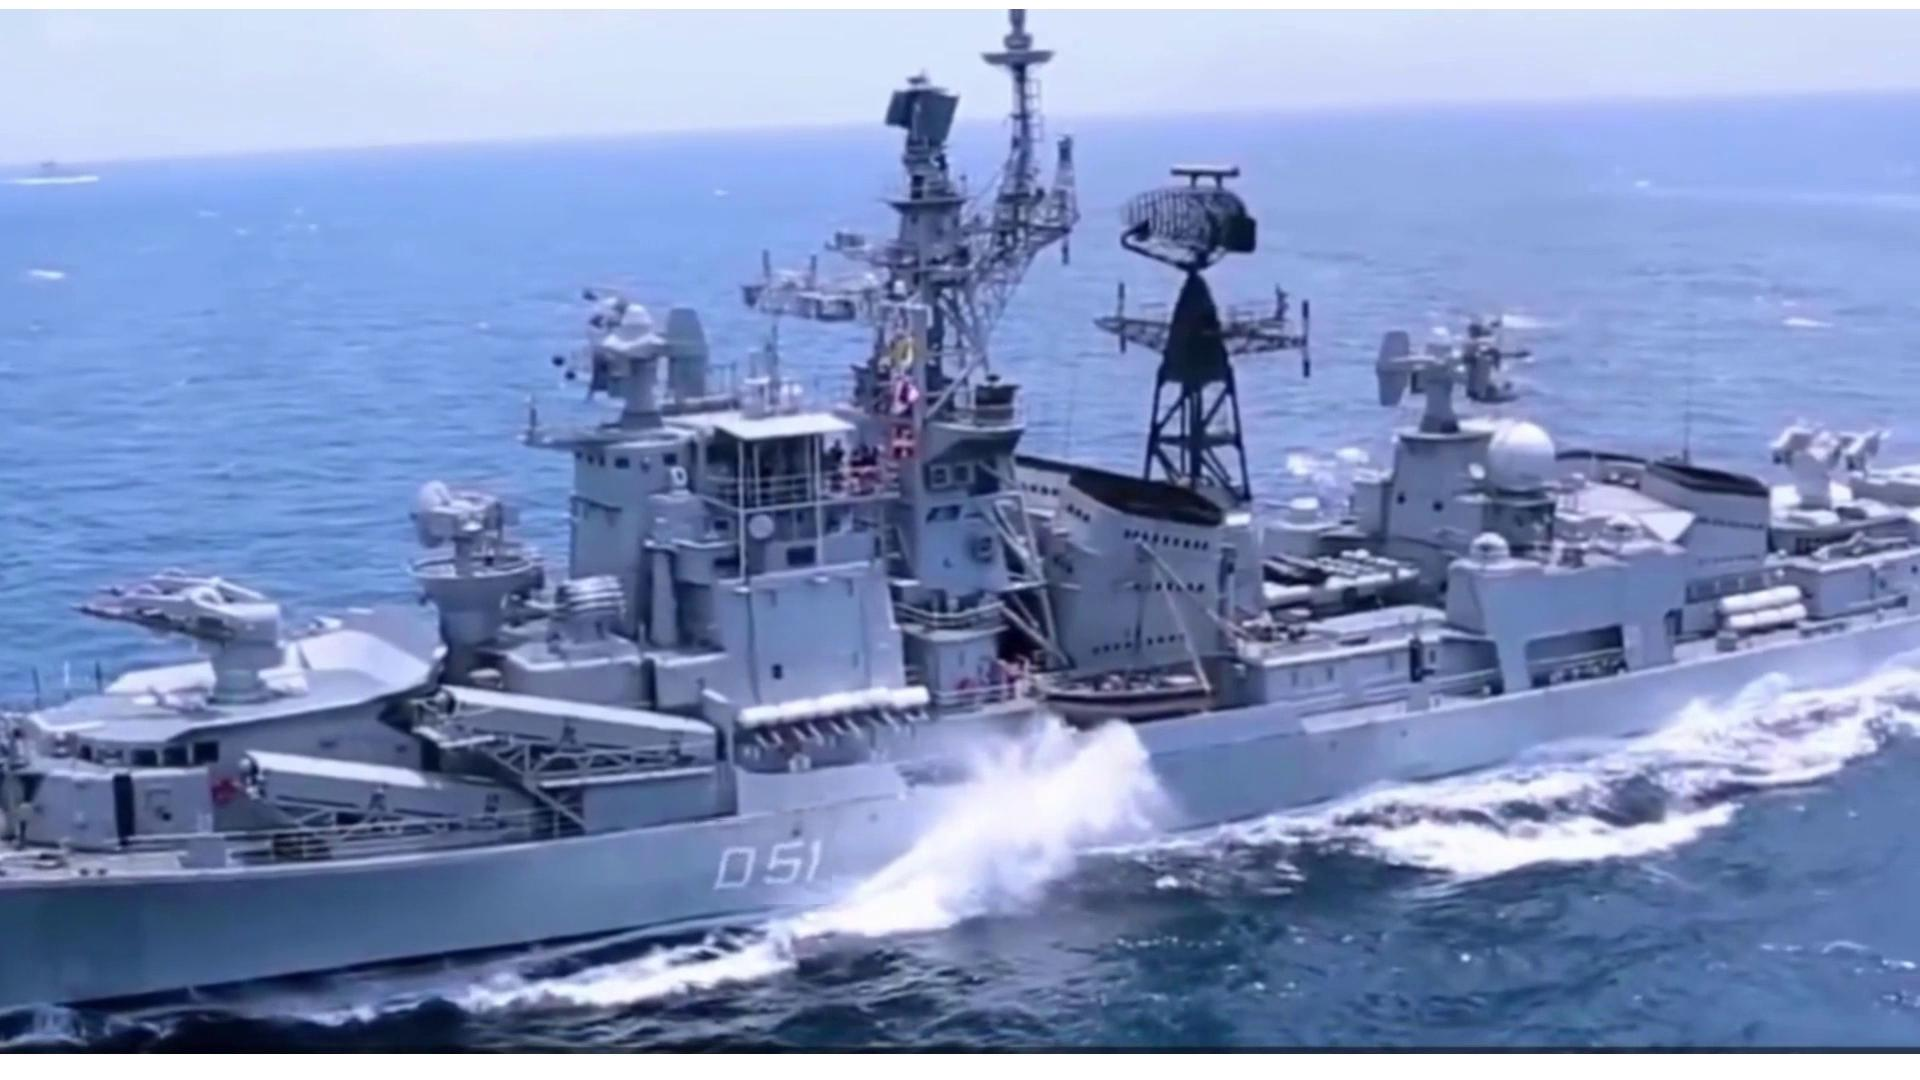OCR: (683, 818, 833, 905)
